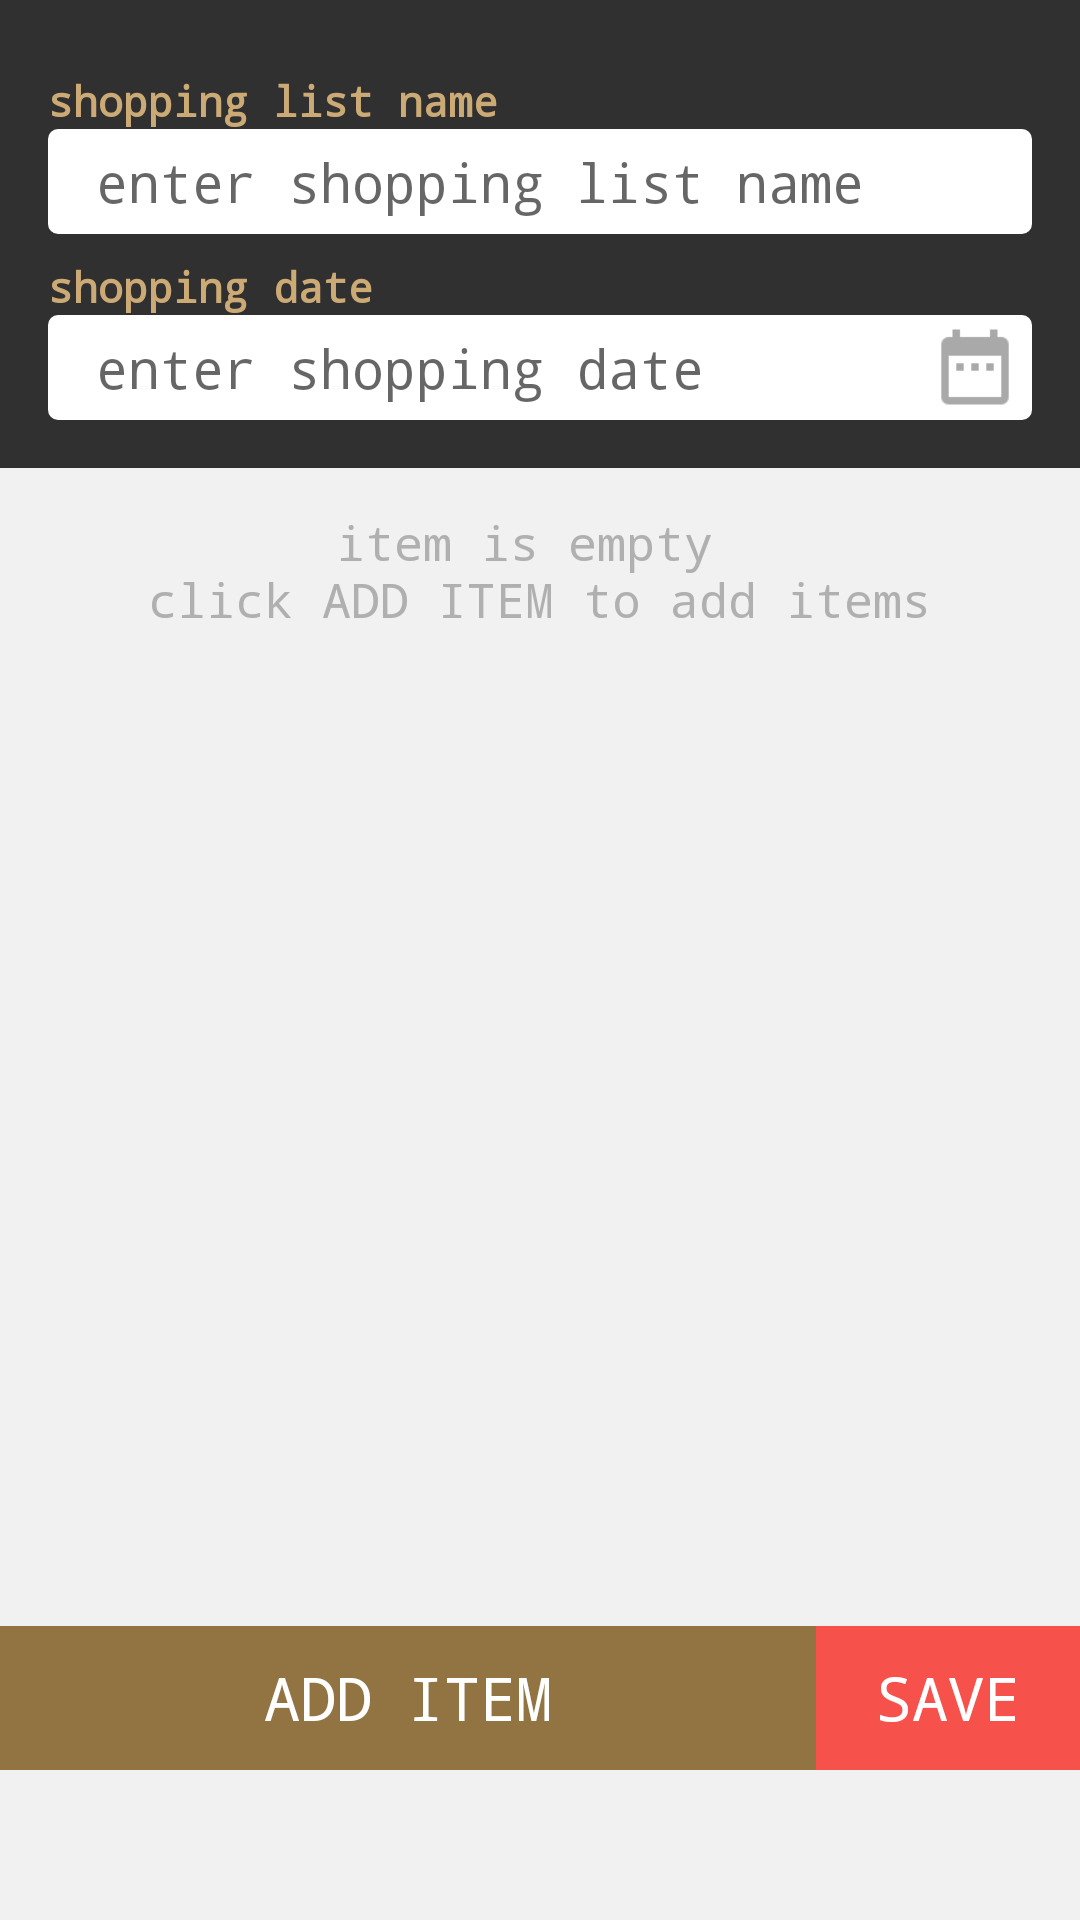

Icons on this 1080 x 1920 Android screen, each with its box as {"left": x1, "top": y1, "right": x2, "bottom": y2}:
date range: {"left": 941, "top": 329, "right": 1009, "bottom": 405}
